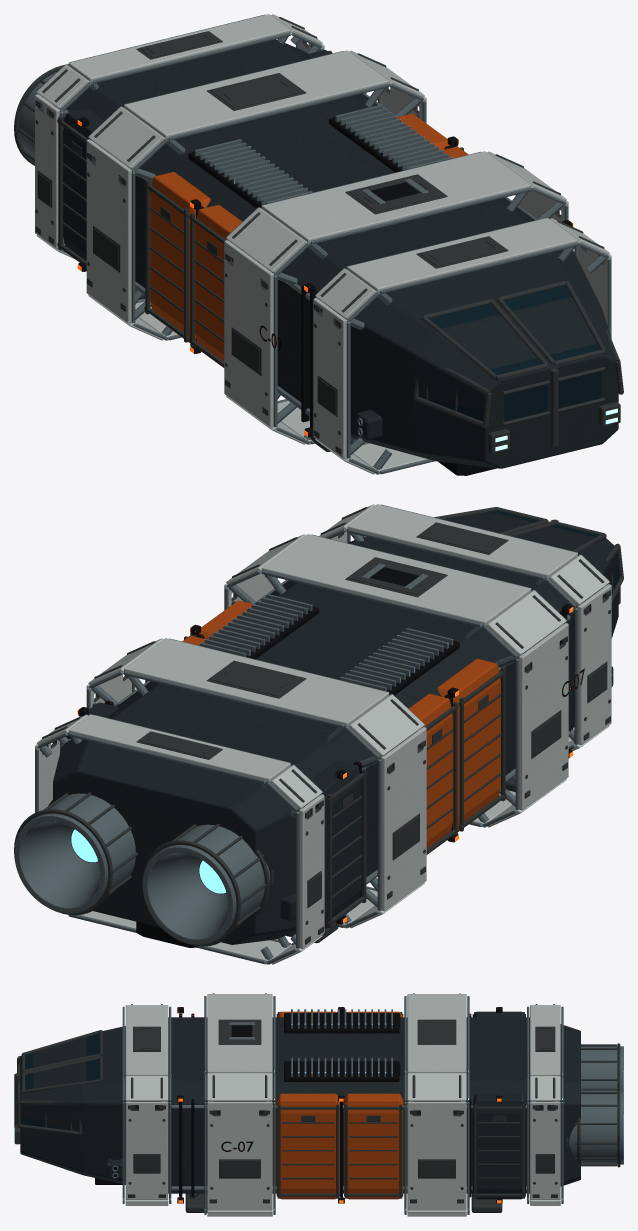
File: c07_courier.glb
The picture shows the model from 3 angles, top to bottom: view 1: azimuth 30°, elevation 25°; view 2: azimuth 150°, elevation 25°; view 3: azimuth 270°, elevation 25°; orthographic projection. The views are drawn at different scales.
Parts seen in each view (by area): view 1: C07_hull, C07_armor_1, C07_armor_2, C07_armor_0, C07_cargo, C07_cockpit, C07_armor_3, C07_dorsal, C07_service, C07_engines, C07_lights; view 2: C07_hull, C07_armor_1, C07_armor_2, C07_engines, C07_cargo, C07_armor_0, C07_armor_3, C07_dorsal, C07_service, C07_cockpit, C07_lights, C07_keel; view 3: C07_hull, C07_cargo, C07_armor_1, C07_armor_2, C07_armor_0, C07_armor_3, C07_engines, C07_dorsal, C07_cockpit, C07_service, C07_keel, C07_lights.
Boxes of the visible parts, bbox=[...] form: C07_hull: bbox=[53, 39, 618, 468]; C07_armor_1: bbox=[224, 151, 568, 444]; C07_armor_2: bbox=[86, 50, 426, 340]; C07_armor_0: bbox=[313, 218, 611, 474]; C07_cargo: bbox=[57, 50, 468, 367]; C07_cockpit: bbox=[413, 280, 623, 453]; C07_armor_3: bbox=[35, 14, 324, 258]; C07_dorsal: bbox=[188, 104, 452, 208]; C07_service: bbox=[40, 36, 606, 469]; C07_engines: bbox=[14, 64, 68, 165]; C07_lights: bbox=[77, 117, 617, 451]; C07_hull: bbox=[53, 511, 618, 944]; C07_armor_1: bbox=[224, 534, 568, 827]; C07_armor_2: bbox=[86, 638, 426, 928]; C07_engines: bbox=[14, 792, 273, 946]; C07_cargo: bbox=[66, 600, 506, 928]; C07_armor_0: bbox=[319, 504, 611, 750]; C07_armor_3: bbox=[35, 714, 324, 964]; C07_dorsal: bbox=[199, 563, 459, 695]; C07_service: bbox=[39, 529, 613, 959]; C07_cockpit: bbox=[434, 507, 623, 604]; C07_lights: bbox=[71, 604, 573, 924]; C07_keel: bbox=[136, 778, 515, 947]; C07_hull: bbox=[20, 1017, 580, 1193]; C07_cargo: bbox=[276, 1011, 525, 1199]; C07_armor_1: bbox=[204, 993, 275, 1216]; C07_armor_2: bbox=[404, 993, 469, 1216]; C07_armor_0: bbox=[122, 1004, 171, 1205]; C07_armor_3: bbox=[527, 1004, 563, 1205]; C07_engines: bbox=[566, 1043, 623, 1167]; C07_dorsal: bbox=[229, 1009, 400, 1081]; C07_cockpit: bbox=[14, 1030, 102, 1144]; C07_service: bbox=[107, 1013, 559, 1197]; C07_keel: bbox=[95, 1178, 502, 1212]; C07_lights: bbox=[14, 1007, 502, 1203].
Bounding box in the file's own units: 12.04 × 7.96 × 29.86.
Materials: 1 (1 with a texture image).
